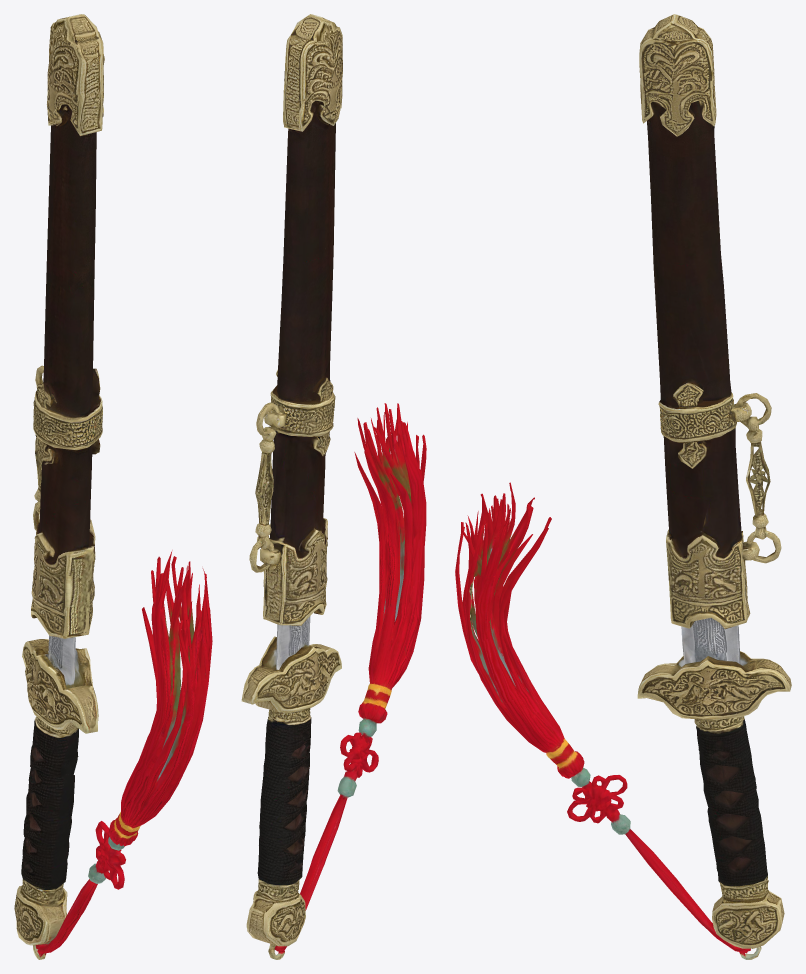
The model's file is item_qingfeng_sword.glb.
The picture shows the model from 3 angles, left to right: view 1: azimuth 30°, elevation 25°; view 2: azimuth 150°, elevation 25°; view 3: azimuth 270°, elevation 25°; orthographic projection. The views are drawn at different scales.
Parts seen in each view (by area): view 1: NormalizedProp; view 2: NormalizedProp; view 3: NormalizedProp.
Part boxes in pixels (bbox=[...]): NormalizedProp: bbox=[14, 14, 212, 959]; NormalizedProp: bbox=[241, 14, 426, 959]; NormalizedProp: bbox=[455, 14, 791, 959].
Size of the model in its own units: 0.0394 by 0.5314 by 0.1722.
1 material, 1 textured.
